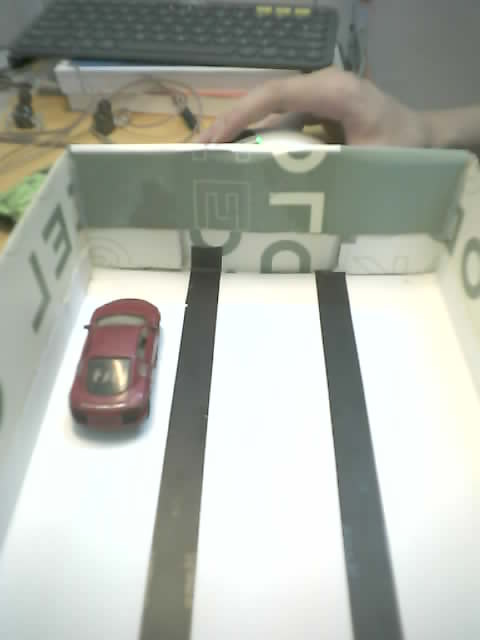vehicle: (68, 268, 162, 446)
